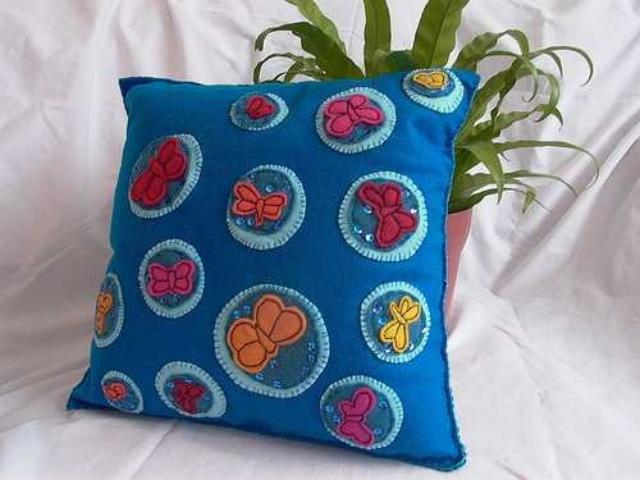pillow: (64, 66, 480, 472)
